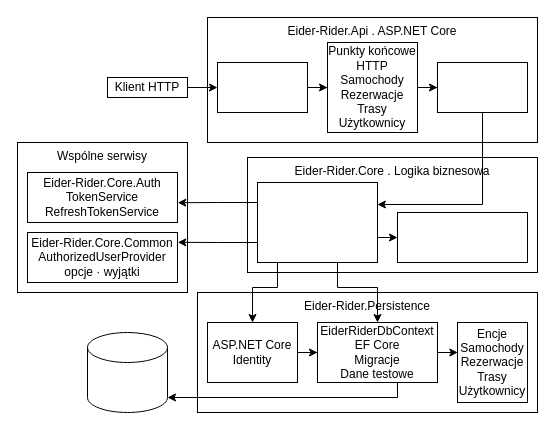
Image size: 555x430. Some labels were removed from this diagram. Here are the shapes that lost their labels. From the top down, the centre of each, then its label:
pixel 262 87: Uwierzytelnianie (JWT) i autoryzacja
pixel 482 87: DispatchR mediator
pixel 317 222: Komendy i zapytania Samochody Rezerwacje Trasy Użytkownicy
pixel 462 237: RouteMatchingService
pixel 127 372: PostgreSQL PostGIS pgRouting
